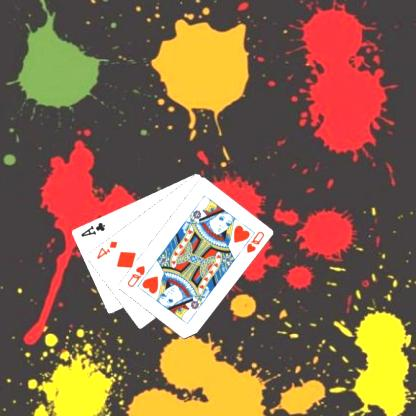4D: (95, 238, 120, 260)
AC: (80, 220, 108, 238)
QH: (238, 228, 268, 254), (126, 262, 148, 288)
